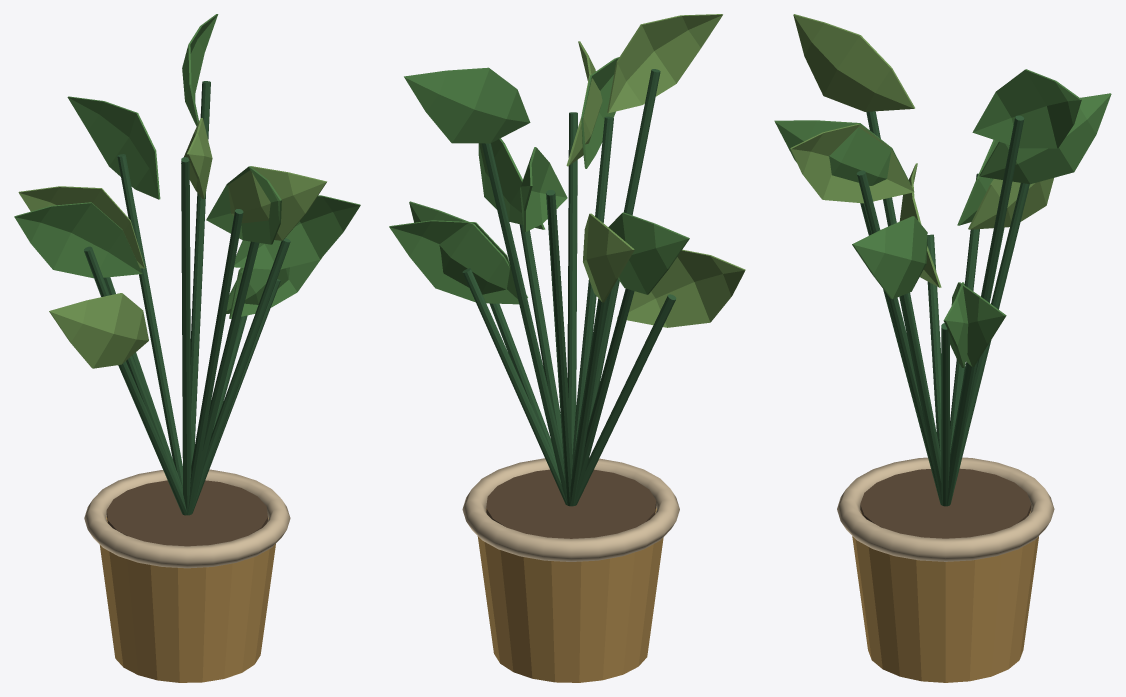
3 renders of one model, left to right at view 1: azimuth 30°, elevation 25°; view 2: azimuth 150°, elevation 25°; view 3: azimuth 270°, elevation 25°, orthographic. The views are drawn at different scales.
Parts seen in each view (by area): view 1: loft_leaf, loft_leaf_dark, loft_ochre, loft_leaf_light, loft_soil, loft_ceramic; view 2: loft_leaf_dark, loft_leaf, loft_ochre, loft_leaf_light, loft_soil, loft_ceramic; view 3: loft_leaf, loft_ochre, loft_leaf_dark, loft_leaf_light, loft_soil, loft_ceramic.
Boxes of the visible parts, x1,y1,x2,y2 form: loft_leaf: [14, 14, 360, 318]; loft_leaf_dark: [84, 81, 290, 515]; loft_ochre: [100, 517, 275, 682]; loft_leaf_light: [18, 118, 326, 368]; loft_soil: [106, 480, 267, 546]; loft_ceramic: [84, 469, 290, 568]; loft_leaf_dark: [462, 69, 676, 506]; loft_leaf: [389, 57, 689, 304]; loft_ochre: [477, 508, 663, 682]; loft_leaf_light: [566, 14, 745, 327]; loft_soil: [486, 469, 656, 538]; loft_ceramic: [462, 458, 679, 561]; loft_leaf: [774, 69, 1111, 367]; loft_ochre: [852, 511, 1038, 682]; loft_leaf_dark: [856, 111, 1029, 506]; loft_leaf_light: [790, 14, 1053, 287]; loft_soil: [860, 468, 1031, 538]; loft_ceramic: [837, 457, 1054, 561].
Size of the model in its own units: 0.9573 by 1.71 by 0.8673.
